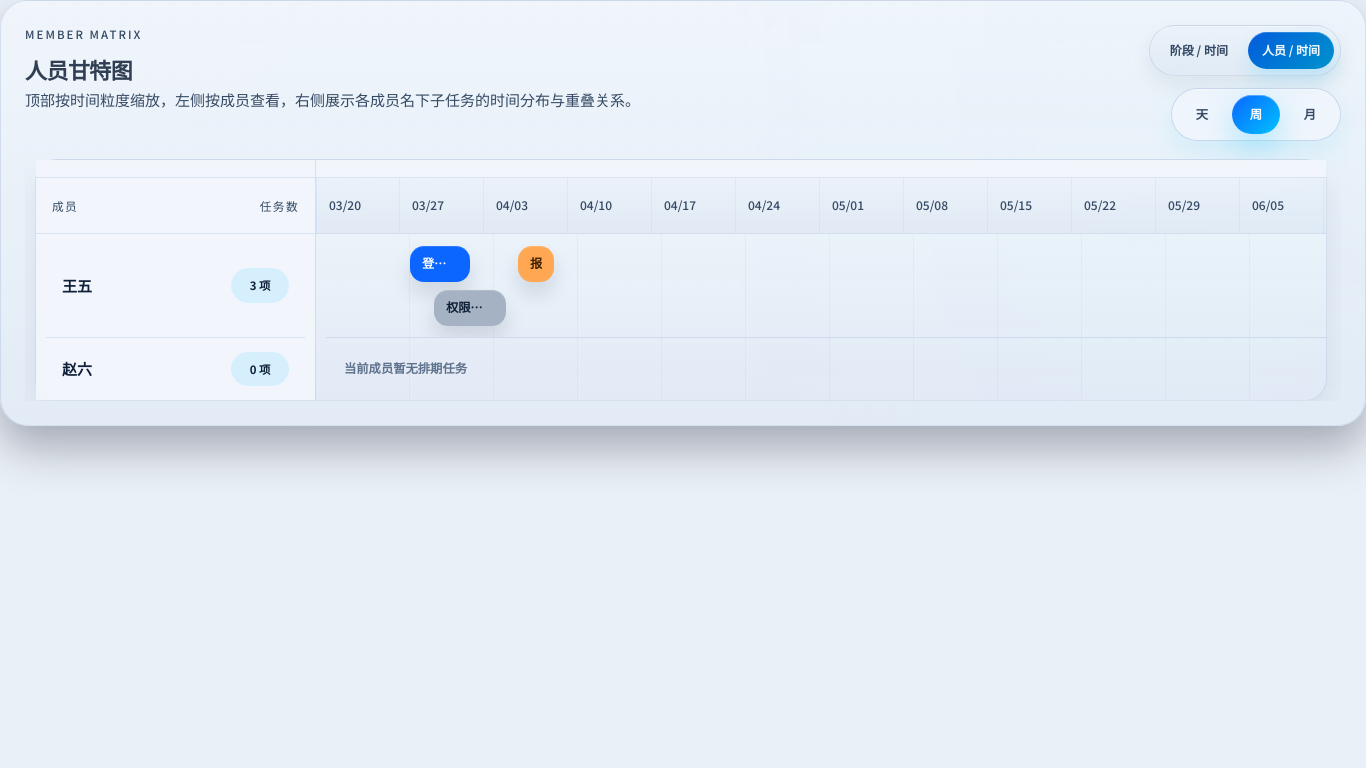
it: ProjectMemberGanttView › renders a color-coded member subtask hover detail card with owner, stage and progress emphasis
The image size is (1366, 768).
Hover over the button with test id "project-member-gantt-bar-4001": (440, 264) [410,246,470,282]
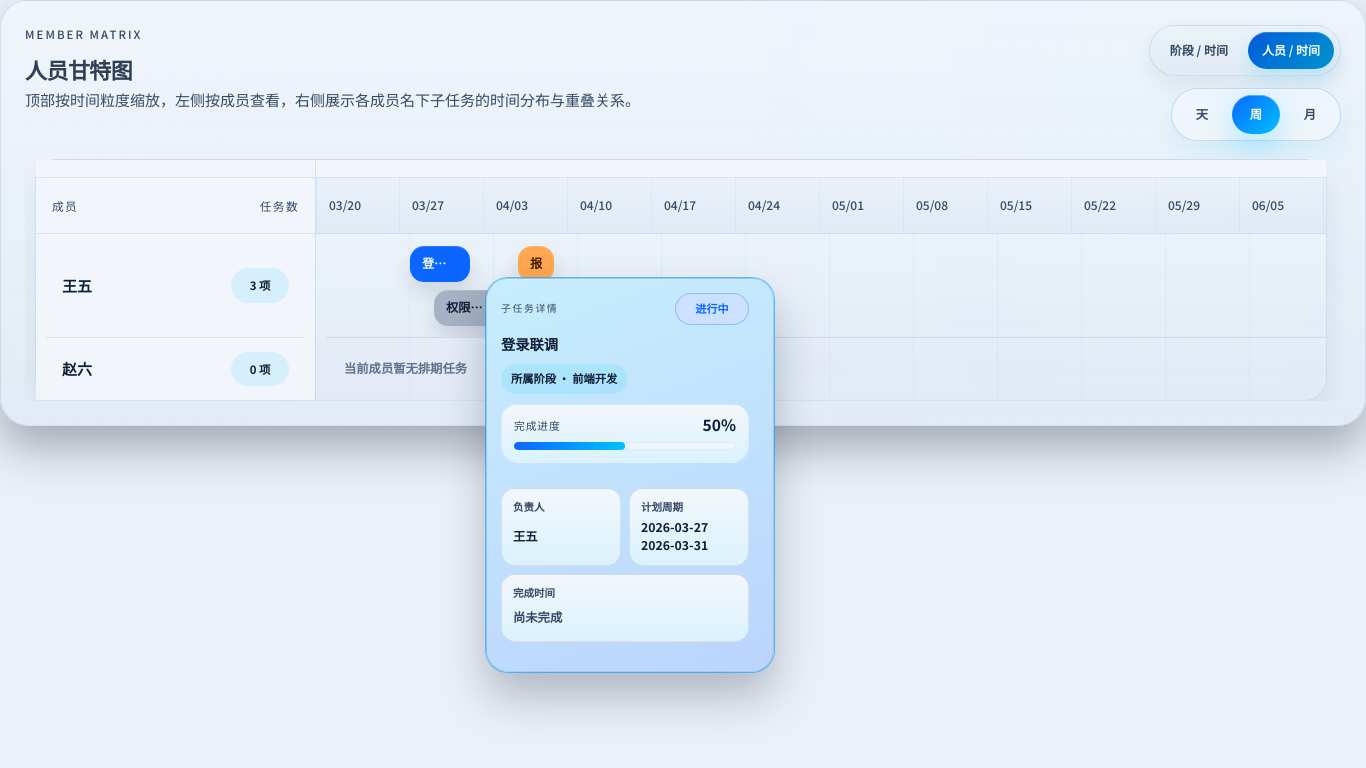
Now the element with test id "project-member-gantt-detail-card" is shown, box [486,278,774,672]
Now the element with test id "project-member-gantt-detail-card" shows "登录联调", box [501,333,558,354]
Now the element with test id "project-member-gantt-detail-card" shows "前端开发", box [511,370,617,386]
